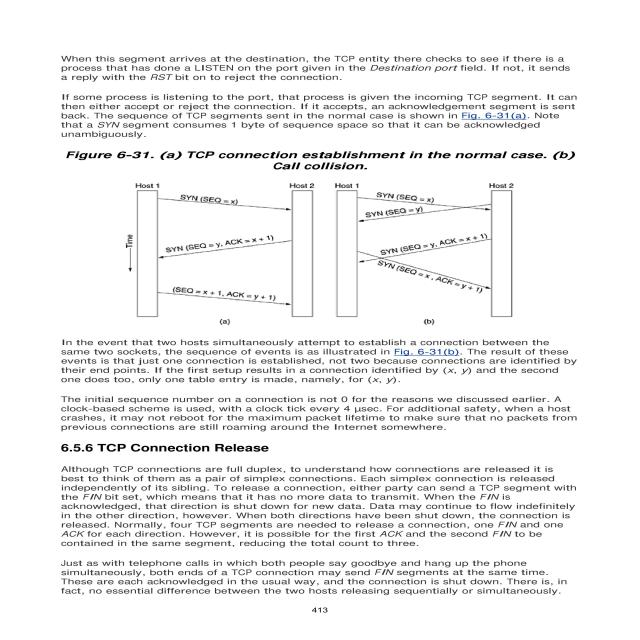diagram: (52, 146, 586, 336)
